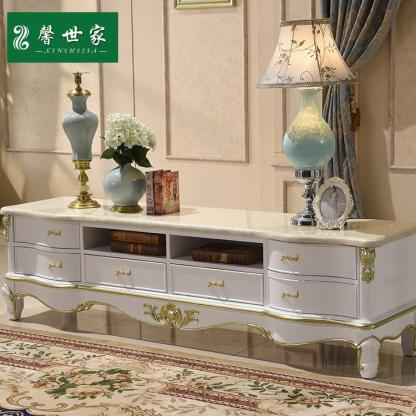TV stand: (0, 182, 416, 381)
